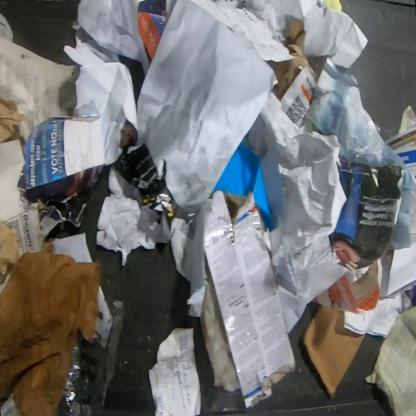cardboard: (203, 190, 297, 408), (302, 304, 366, 396), (268, 20, 316, 102)
soft_plastic: (63, 298, 126, 415)
